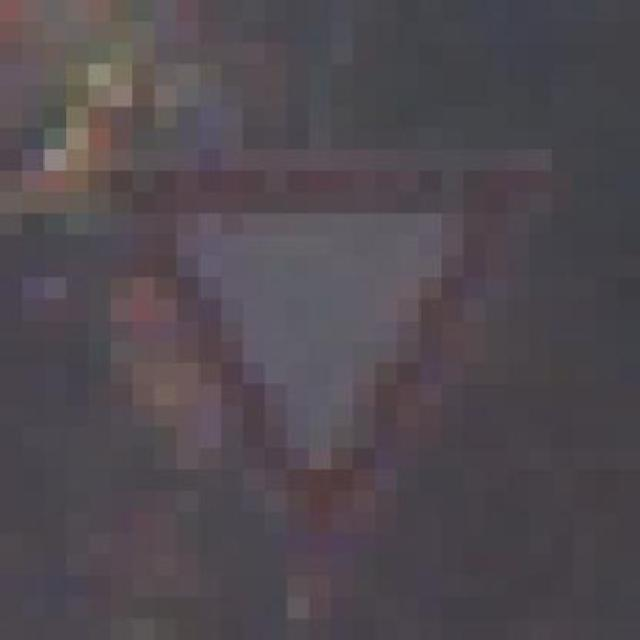Give Way: (89, 107, 552, 576)
